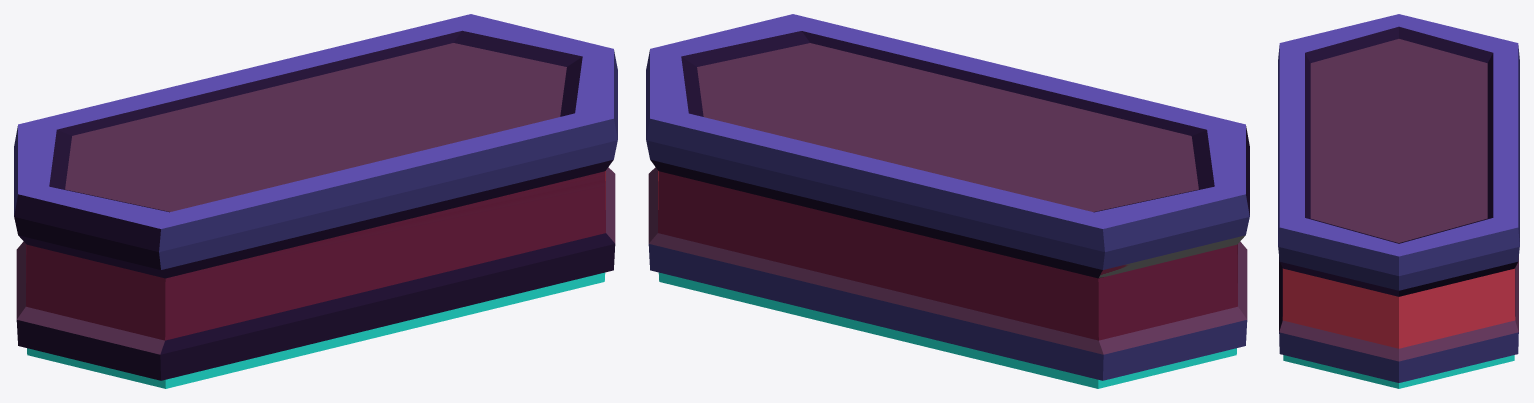
The model's file is barra.FBX.
3 renders of one model, left to right at view 1: azimuth 30°, elevation 25°; view 2: azimuth 150°, elevation 25°; view 3: azimuth 270°, elevation 25°, orthographic. The views are drawn at different scales.
Parts seen in each view (by area): view 1: Cylinder001; view 2: Cylinder001; view 3: Cylinder001.
Boxes of the visible parts, x1,y1,x2,y2 form: Cylinder001: (14, 14, 617, 388); Cylinder001: (646, 14, 1249, 388); Cylinder001: (1278, 14, 1519, 388).
Size of the model in its own units: 84.44 by 21.81 by 35.1.
